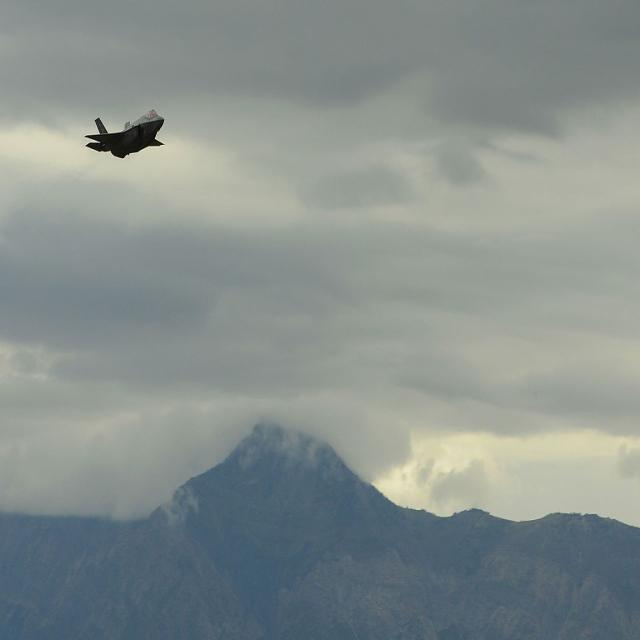MIL_Plane: (84, 108, 166, 159)
